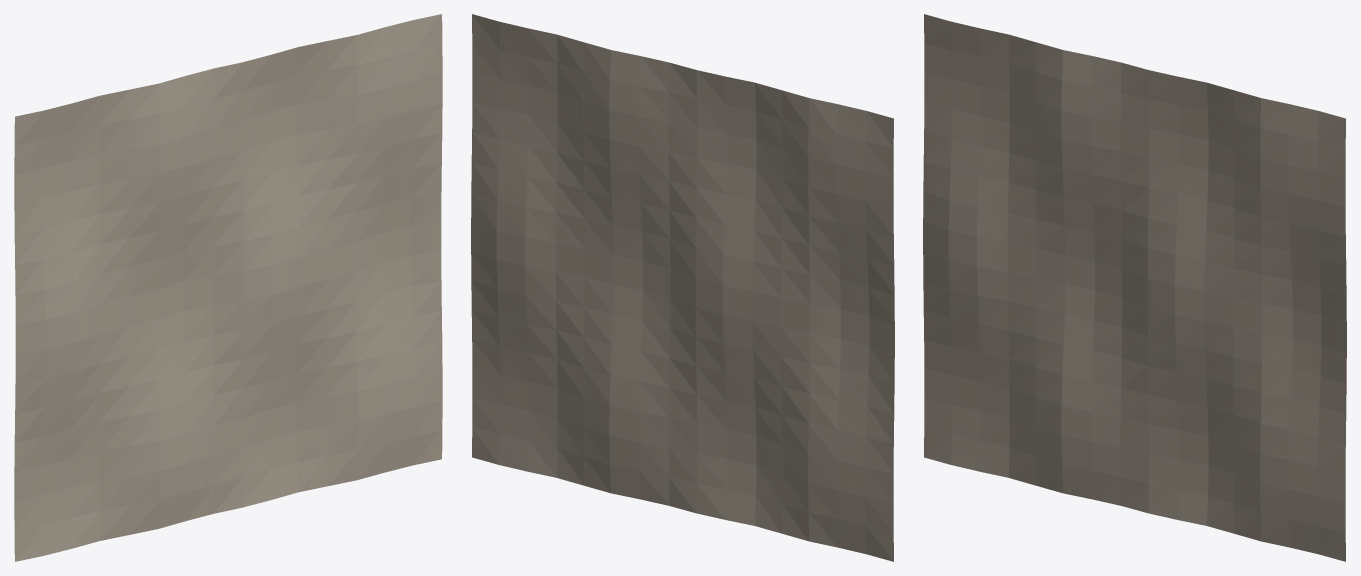
The model's file is sandy_terrain.glb.
3 renders of one model, left to right at view 1: azimuth 30°, elevation 25°; view 2: azimuth 150°, elevation 25°; view 3: azimuth 330°, elevation 25°, orthographic.
Visible parts, largest first — view 1: geometry_0; view 2: geometry_0; view 3: geometry_0.
Part boxes in pixels (x1,y1,x2,y2): geometry_0: [14, 14, 442, 561]; geometry_0: [471, 14, 894, 561]; geometry_0: [923, 14, 1346, 561].
Size of the model in its own units: 3 by 3 by 0.0734.
